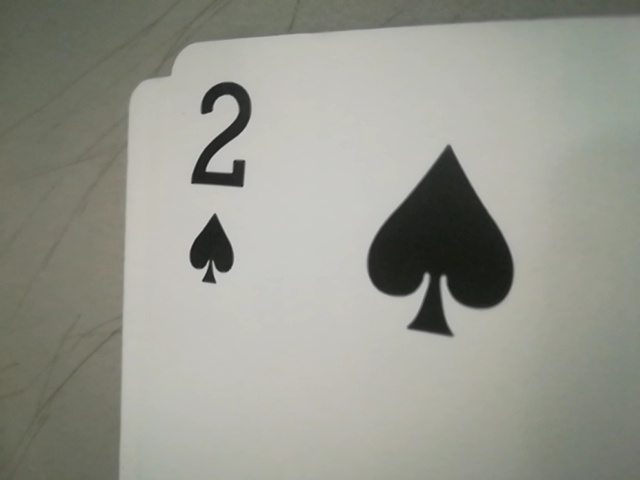ht 2: (180, 58, 269, 306)
